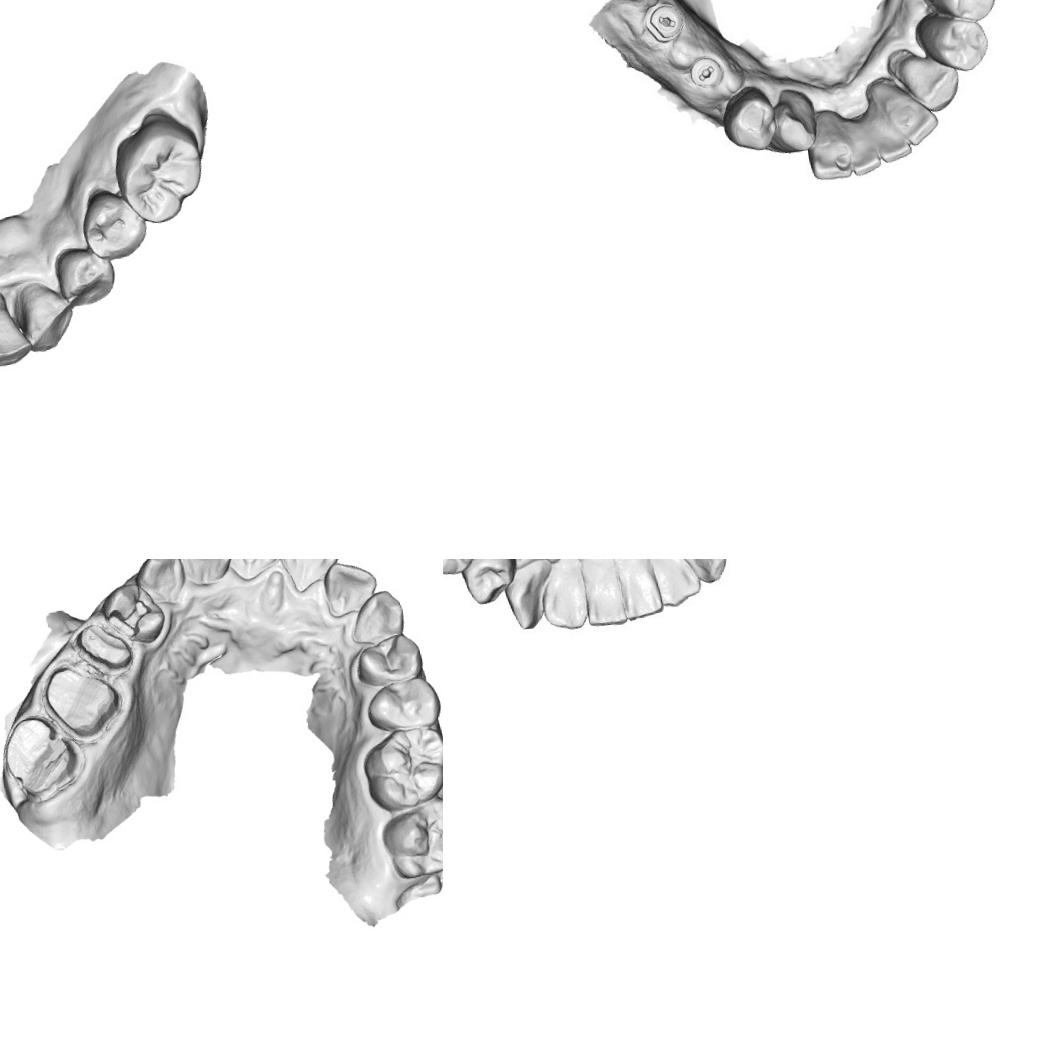canine: (14, 274, 78, 356), (898, 51, 963, 118), (761, 86, 818, 157), (346, 588, 407, 648), (502, 568, 554, 631), (131, 559, 188, 608), (672, 559, 729, 588)
crown: (0, 710, 89, 807), (35, 656, 127, 747), (69, 618, 136, 681)
implant_minus: (637, 0, 692, 52), (680, 51, 730, 96)
incisor: (875, 77, 944, 157), (318, 559, 381, 621), (578, 559, 631, 632), (802, 112, 857, 182), (540, 560, 590, 631), (616, 559, 663, 622), (866, 106, 914, 166), (649, 559, 699, 610), (276, 559, 347, 593), (0, 294, 31, 370), (843, 118, 882, 175), (175, 559, 235, 588), (219, 559, 290, 582)
inlay: (104, 596, 155, 643)
molar: (106, 106, 210, 229), (359, 722, 443, 813), (378, 793, 443, 882)
premolar: (76, 185, 154, 266), (363, 672, 443, 736), (52, 241, 120, 311), (923, 13, 995, 76), (352, 630, 426, 688), (720, 84, 781, 150), (462, 559, 517, 604), (918, 0, 997, 27)
